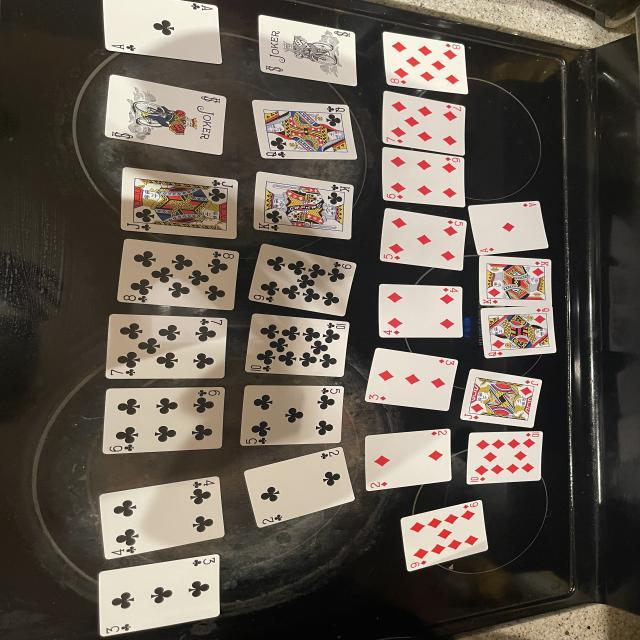10 of clubs: (245, 314, 350, 378)
10 of diamonds: (467, 431, 543, 484)
2 of clubs: (245, 448, 355, 528)
2 of diamonds: (365, 429, 452, 491)
3 of clubs: (98, 554, 220, 636)
3 of diamonds: (365, 348, 458, 411)
4 of clubs: (100, 476, 225, 559)
4 of diamonds: (378, 284, 463, 338)
5 of clubs: (240, 385, 343, 446)
5 of diamonds: (380, 209, 467, 270)
6 of clubs: (103, 388, 225, 454)
6 of diamonds: (382, 148, 465, 208)
7 of clubs: (105, 314, 227, 379)
7 of diamonds: (382, 91, 465, 155)
8 of clubs: (117, 239, 238, 310)
8 of diamonds: (383, 31, 468, 94)
9 of clubs: (248, 244, 357, 316)
9 of diamonds: (400, 500, 488, 571)
Ace of clubs: (103, 0, 222, 64)
Ace of diamonds: (468, 201, 548, 255)
Jack of clubs: (120, 168, 238, 239)
Jack of diamonds: (460, 369, 542, 428)
Joker: (105, 75, 227, 155), (258, 15, 357, 86)
King of clubs: (253, 171, 353, 239)
King of diamonds: (478, 256, 552, 306)
Queen of clubs: (252, 100, 357, 160)
Queen of diamonds: (480, 306, 557, 359)
